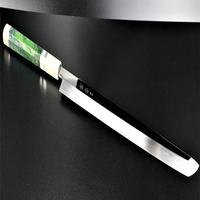knife: (2, 23, 199, 176)
